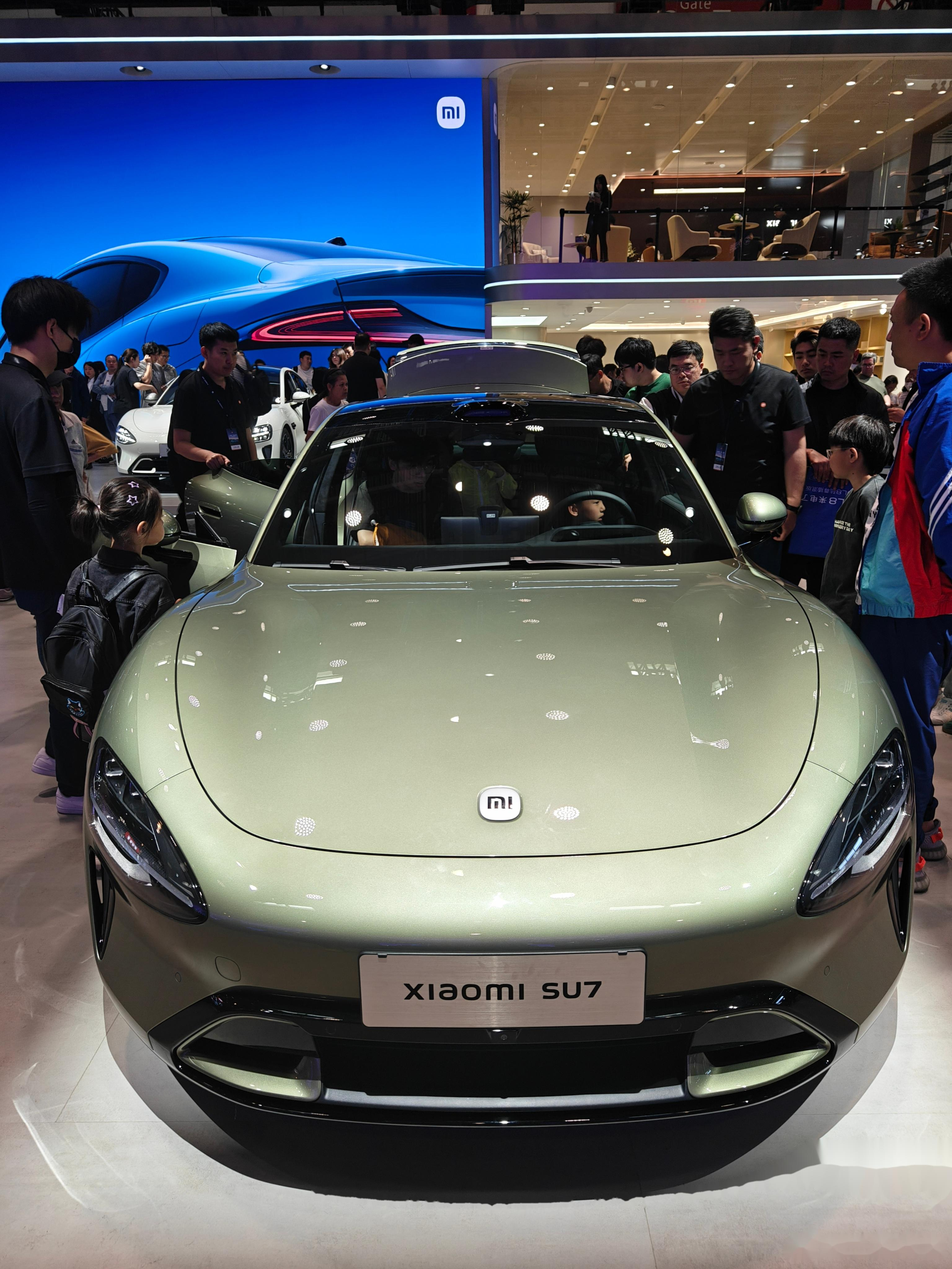su7: (95, 382, 914, 1163)
